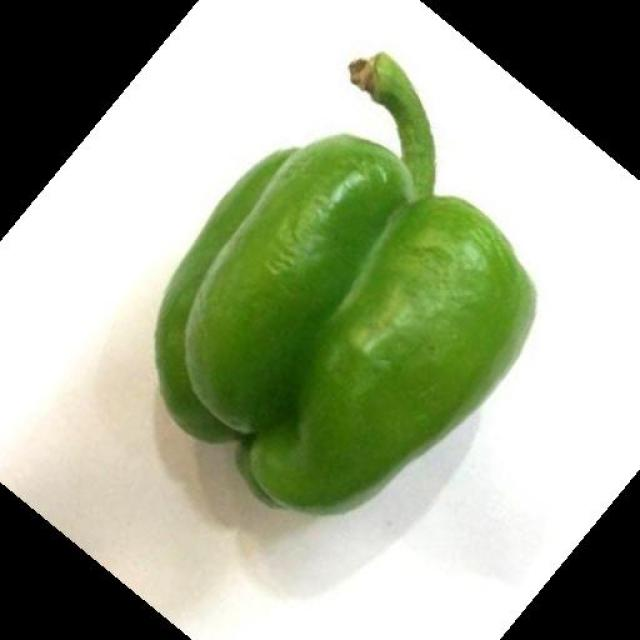Fresh_Capsicum: (128, 132, 540, 458)
